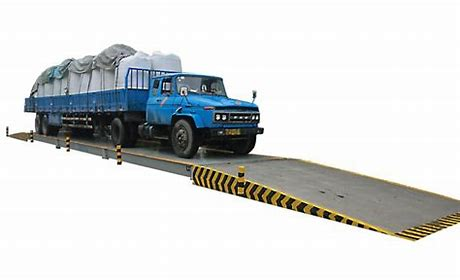Bins: (29, 130, 287, 177)
